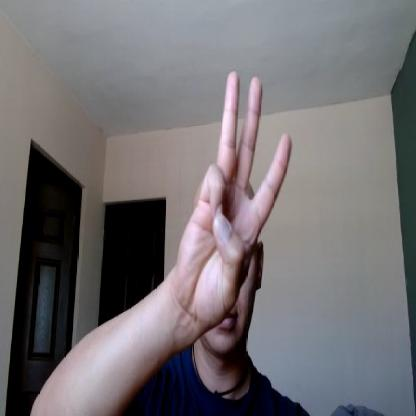W: (175, 73, 293, 321)
